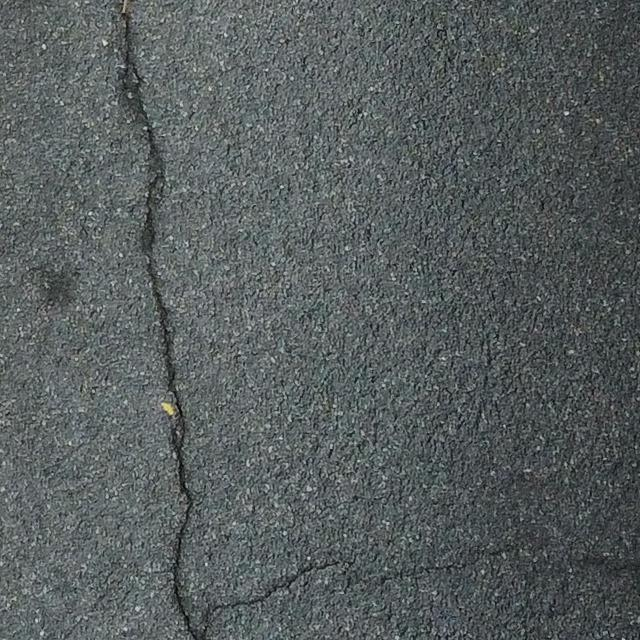LongitudinalCrack: (120, 8, 198, 637)
TransverseCrack: (206, 552, 495, 627)
